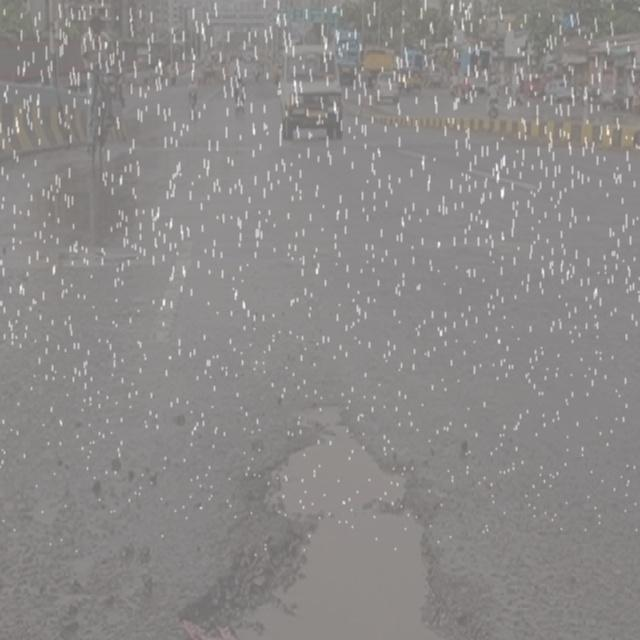Pothole: (167, 378, 497, 640)
